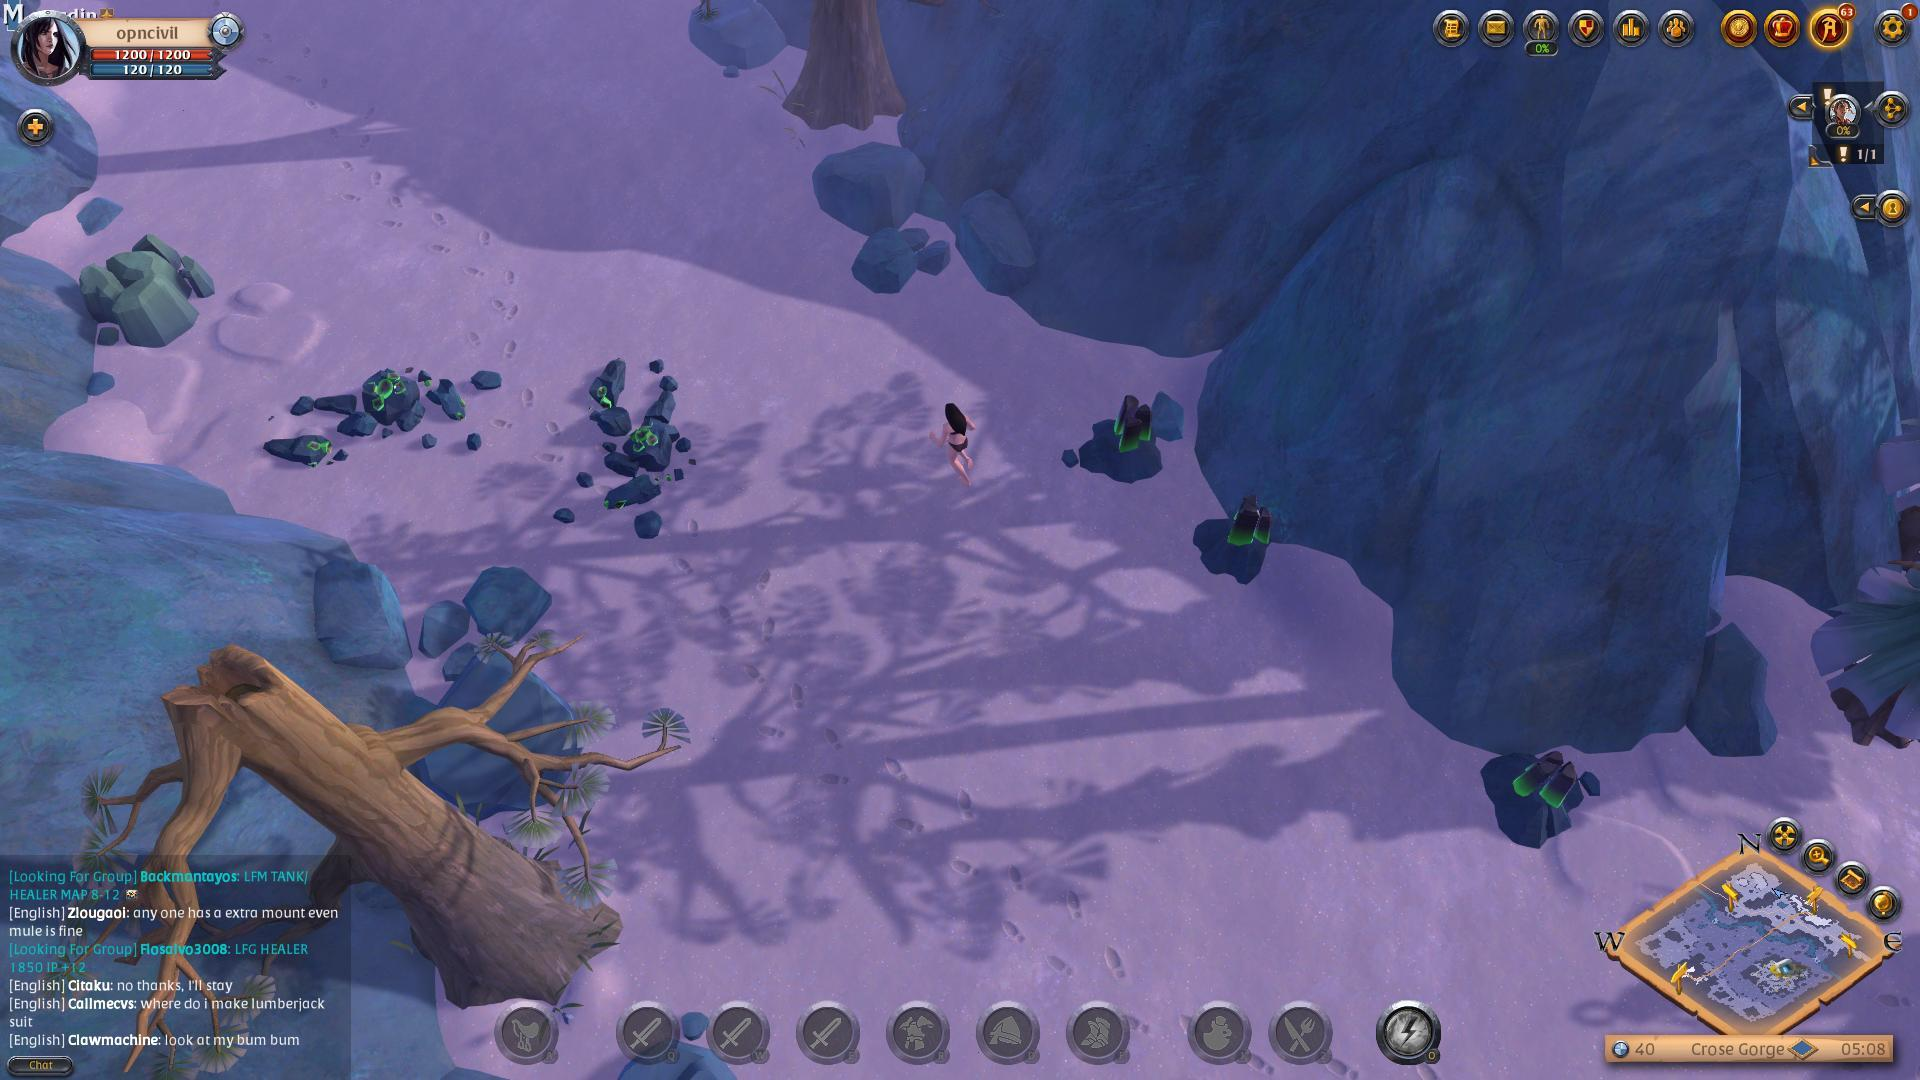sandstone: (70, 223, 220, 347)
tin_ore: (1474, 741, 1615, 852), (1185, 491, 1300, 592), (1083, 390, 1172, 491)
